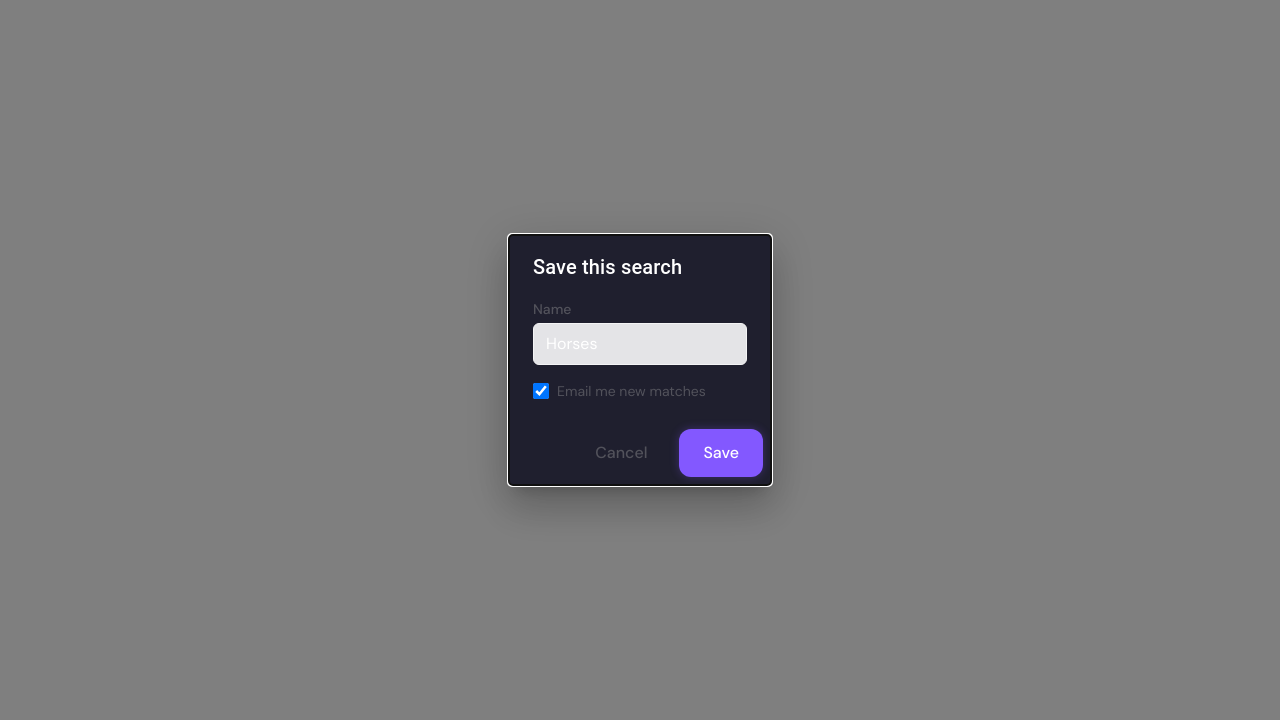
Test: SavedSearchFormDialog › shows the limit message on a 409
Click the button "Save": coordinates (721, 453) left=680, top=429, right=763, bottom=477
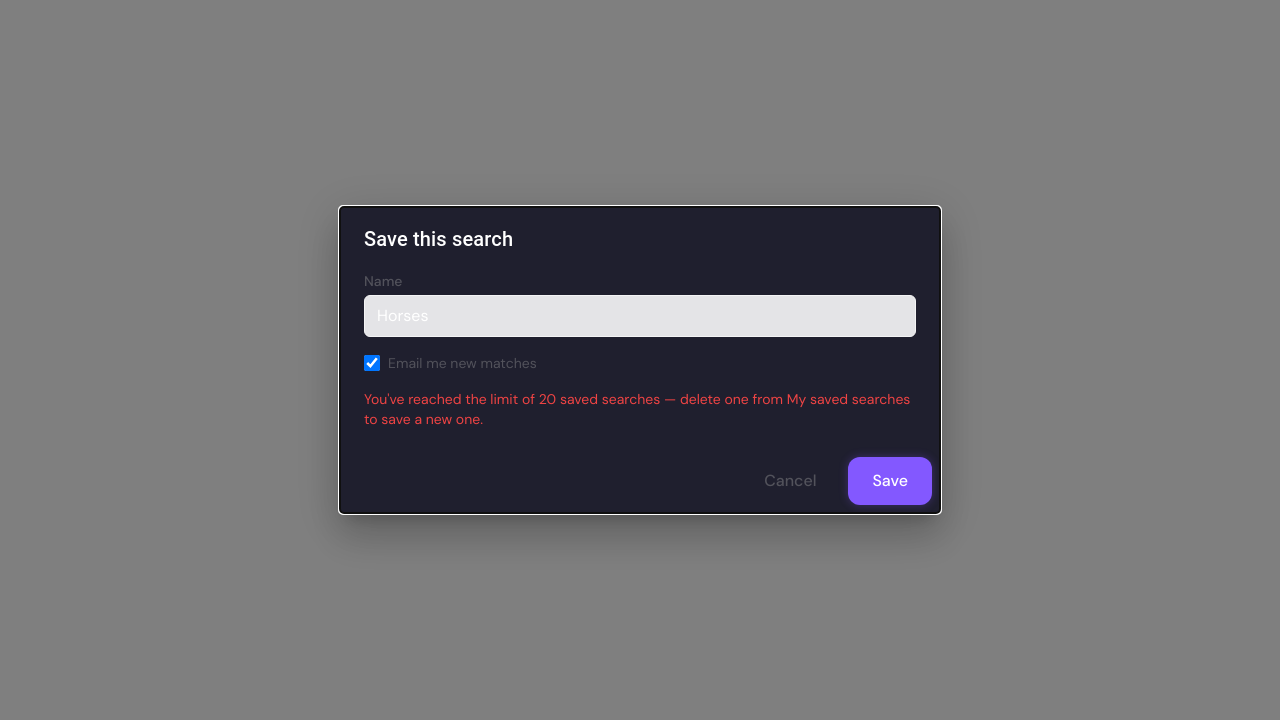
Check: the text "reached the limit of 20 saved searches" is shown, box left=364, top=390, right=910, bottom=428
